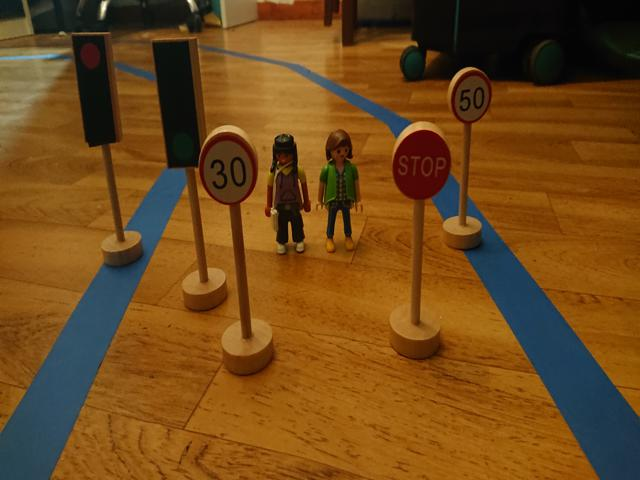30 speed sign: (199, 134, 257, 206)
50 speed sign: (450, 68, 492, 125)
green light: (161, 47, 196, 167)
person: (317, 129, 367, 255), (264, 133, 312, 257)
red light: (76, 38, 109, 135)
stop sign: (393, 130, 451, 201)
